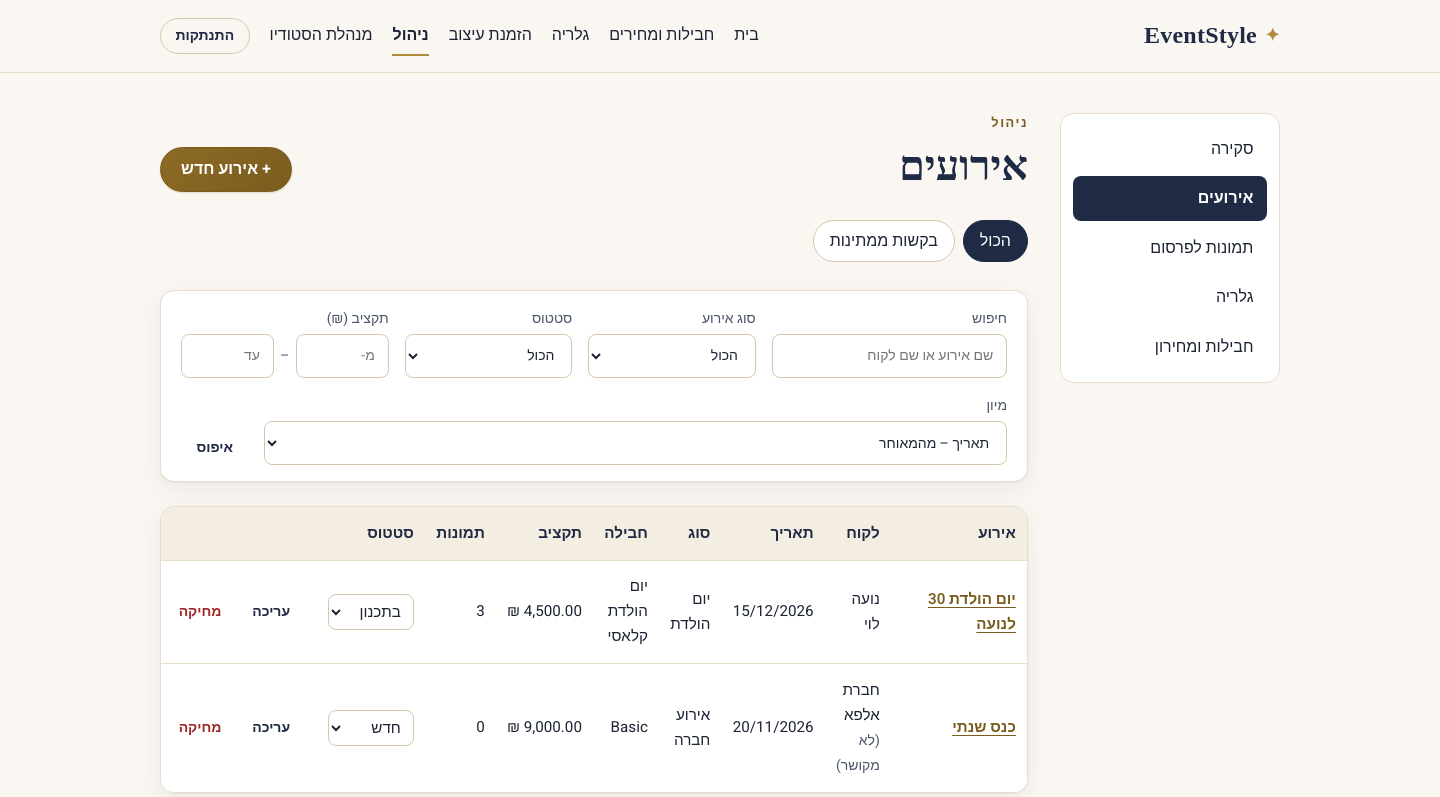
Scenario: Admin: events management › deletes an event only after confirmation
Click the button "מחיקה" in the row of "כנס שנתי" at (200, 728), box [163,710,237,746]
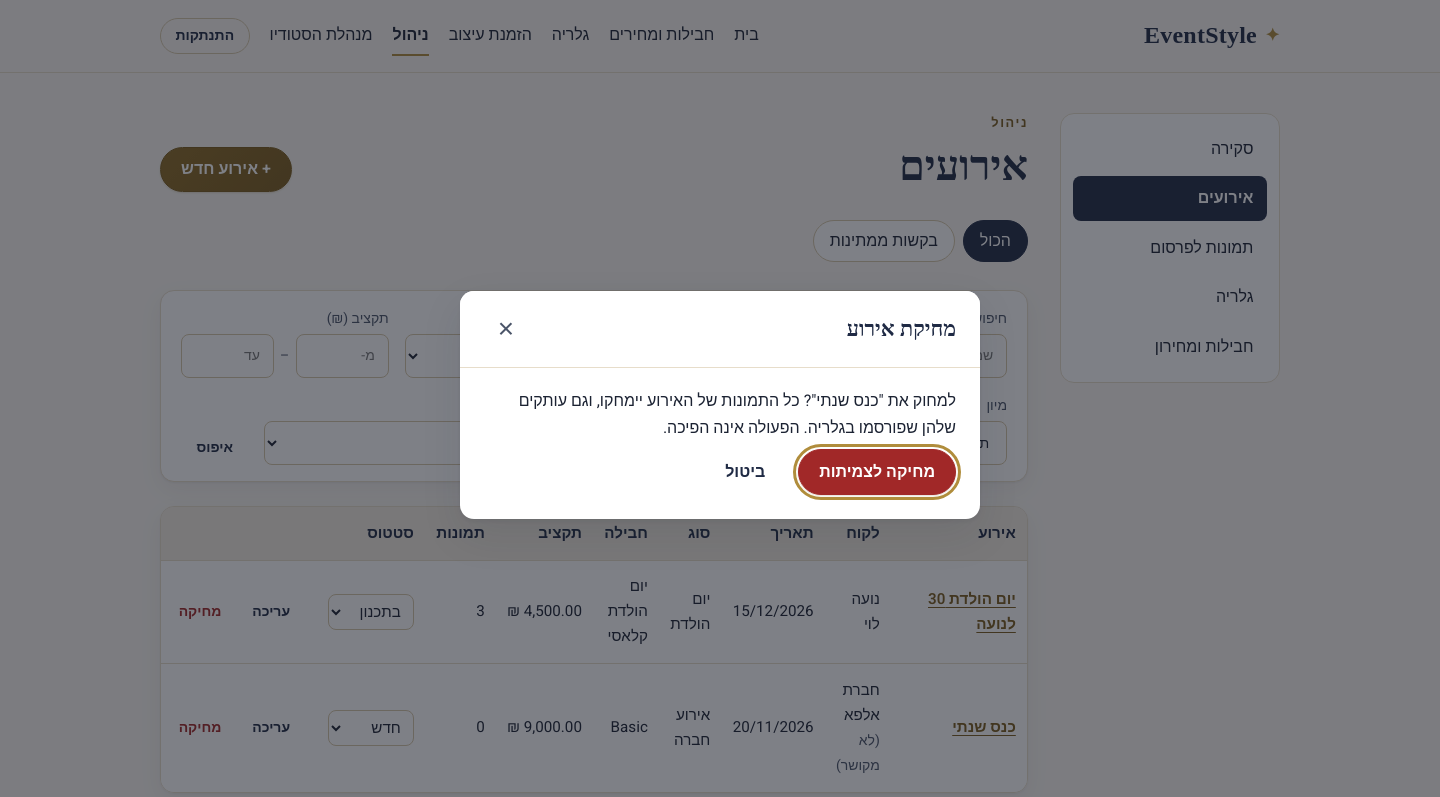
Click the button "ביטול" at (745, 472), box [704,449,786,495]
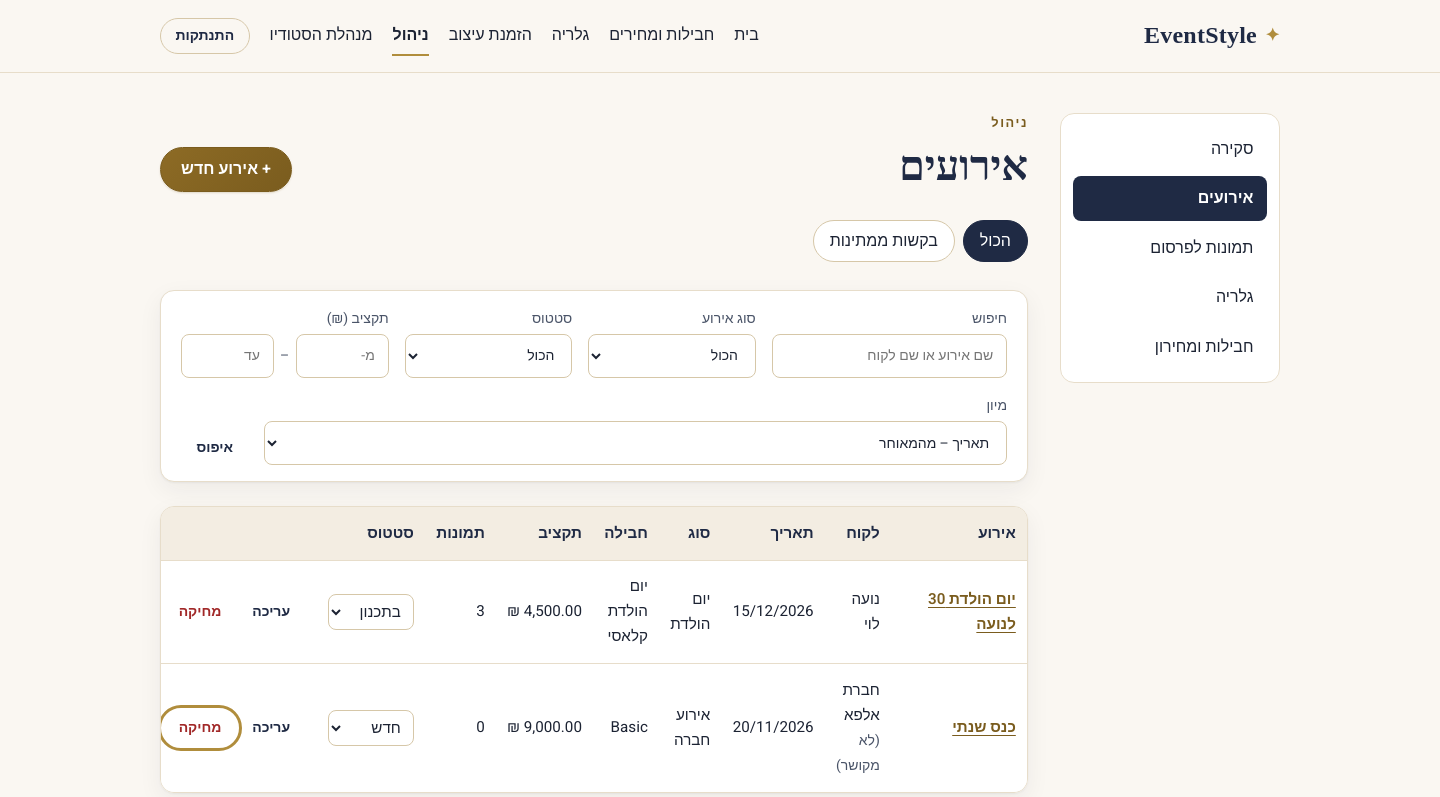
Click the button "מחיקה" in the row of "כנס שנתי" at (200, 728), box [163,710,237,746]
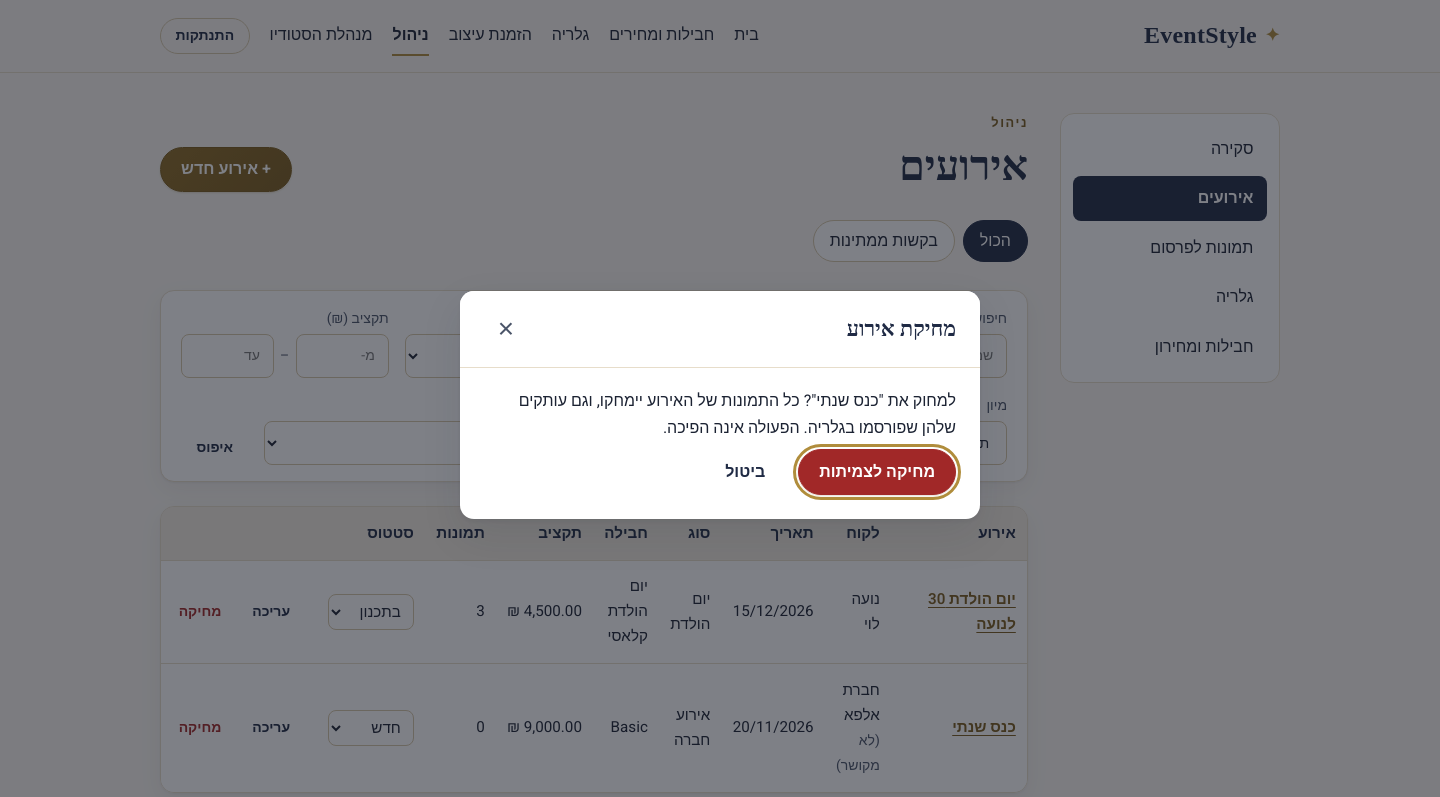
Click the button "מחיקה לצמיתות" at (877, 472), box [798,449,956,495]
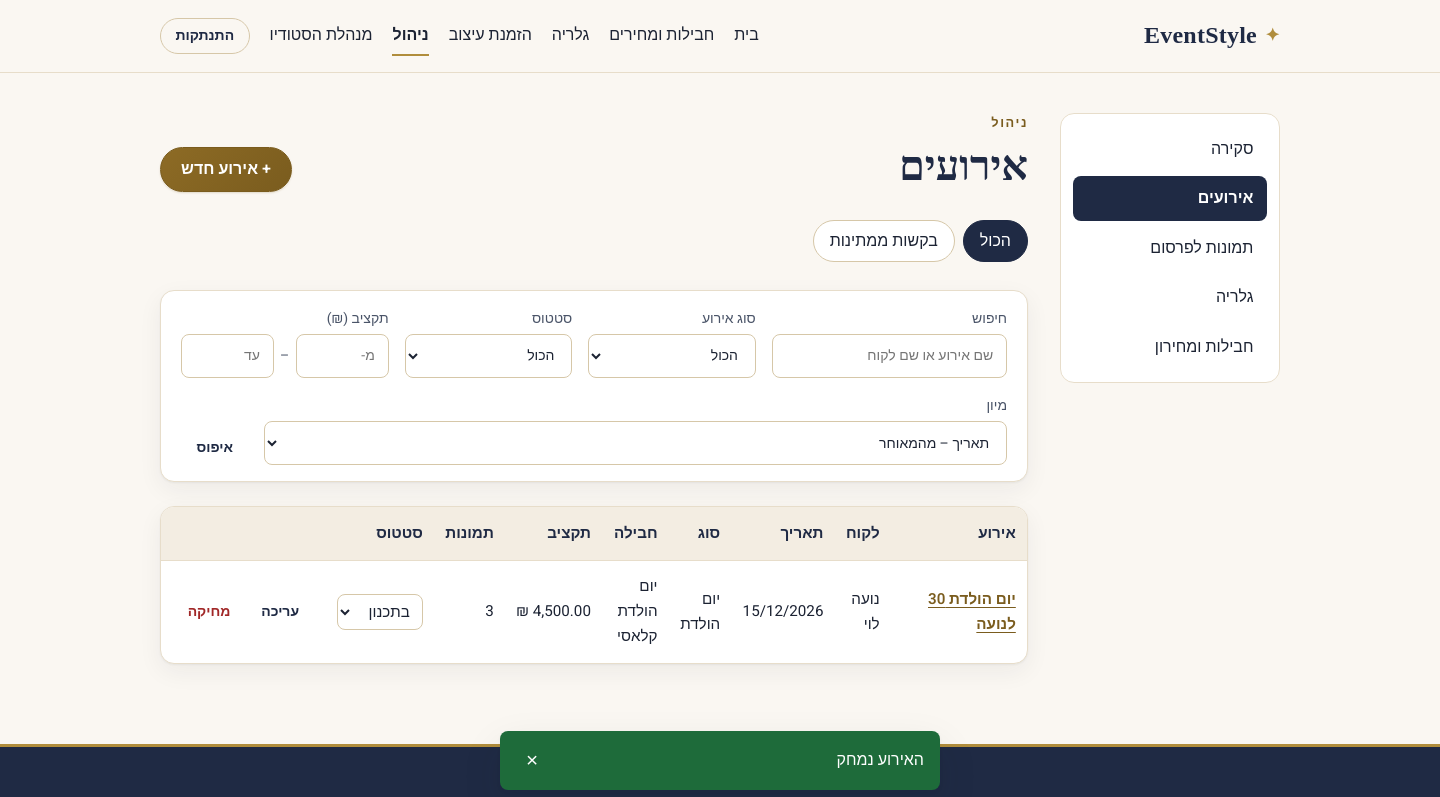
expect the text "האירוע נמחק" is shown: met, box [836,747,924,774]
expect the link "כנס שנתי" is gone: met
